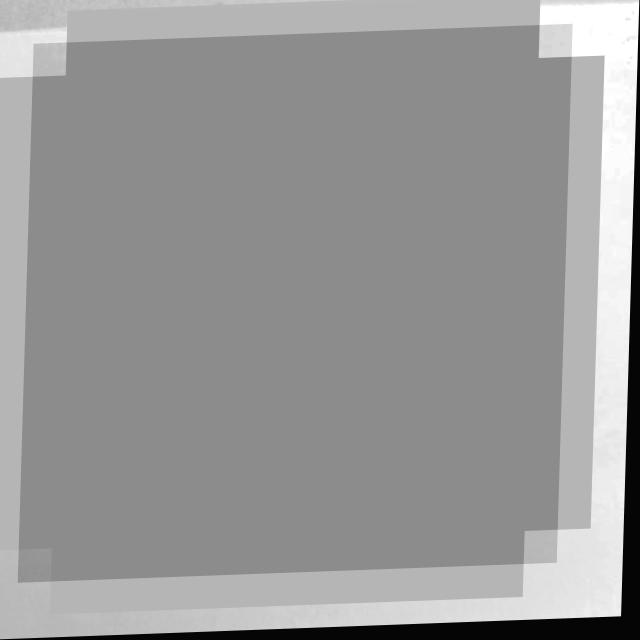qr_code: (21, 28, 573, 583)
